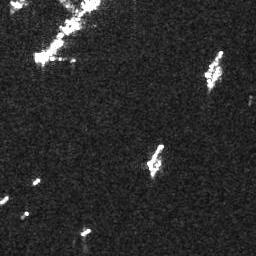ship: (30, 34, 67, 67), (201, 47, 225, 79), (145, 141, 165, 168), (206, 65, 223, 93), (151, 159, 161, 177), (81, 226, 91, 237), (1, 196, 10, 206), (32, 178, 42, 185)
